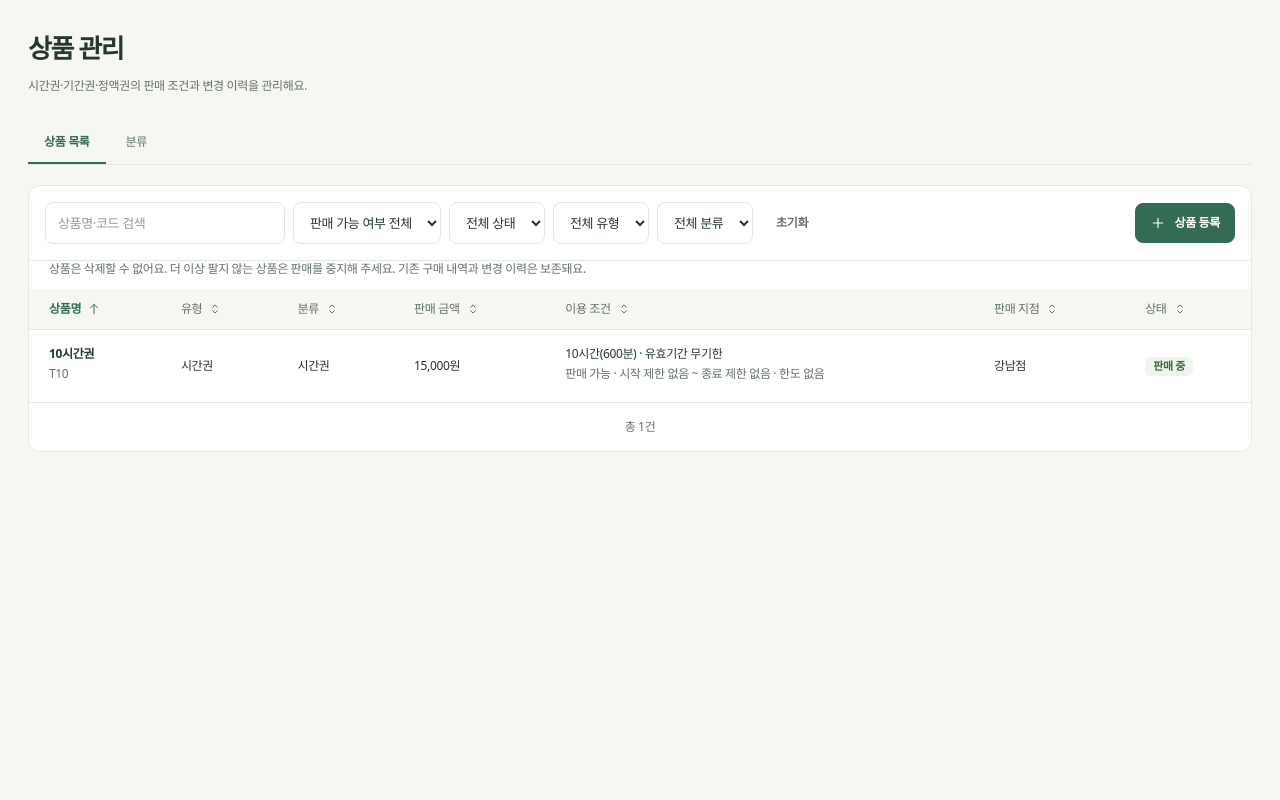
Test: lists terms with explicit units and unlimited validity, and never offers delete
Check: the text "10시간(600분) · 유효기간 무기한 판매 가능 · 시작 제한 없음 ~ 종료 제한 없음 · 한도 없음" is shown, box [545,330,974,402]
Check: the cell "강남점" is shown, box [974,330,1125,402]
What coordinates should you click on to do the following:
click the button "10시간권"
I would click on:
 (72, 354)
Its box is [49,346,94,362].
(page scrolled)
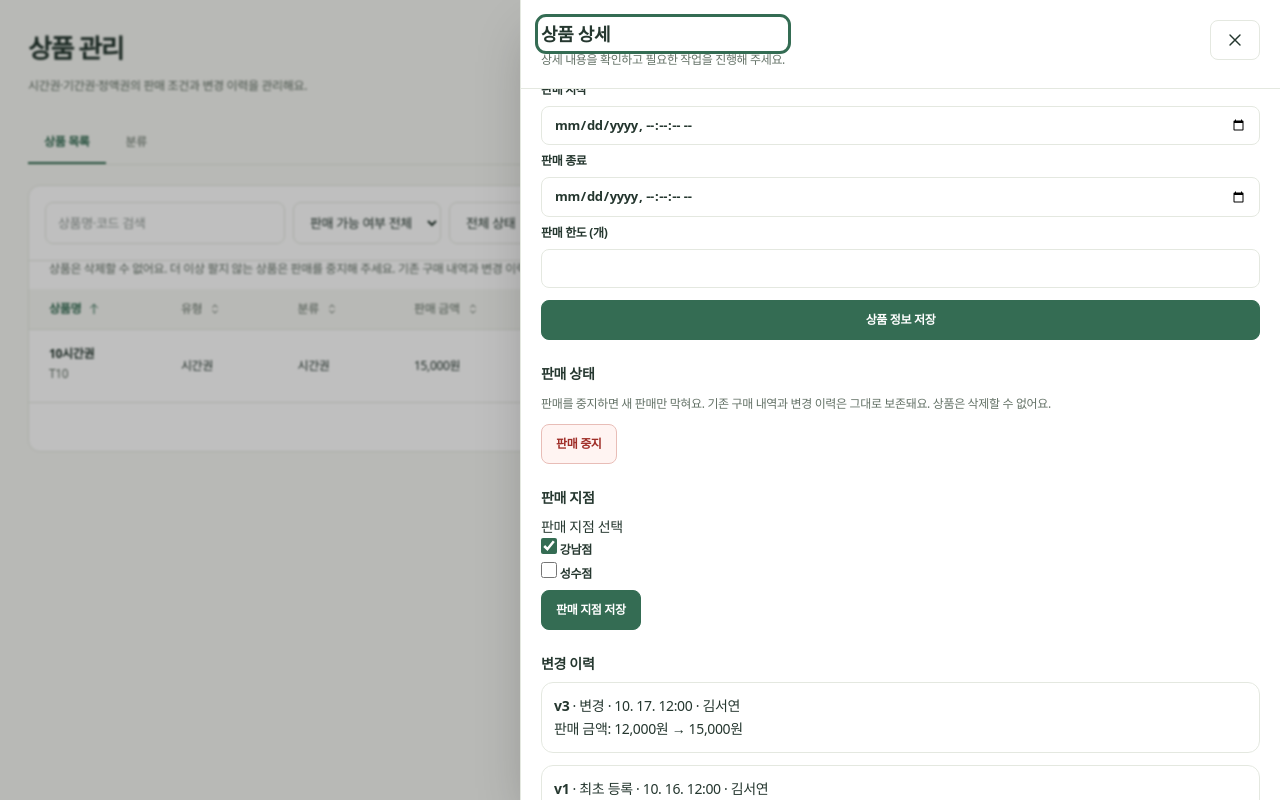
Check: the button "판매 중지" is shown, box [541,424,616,464]
